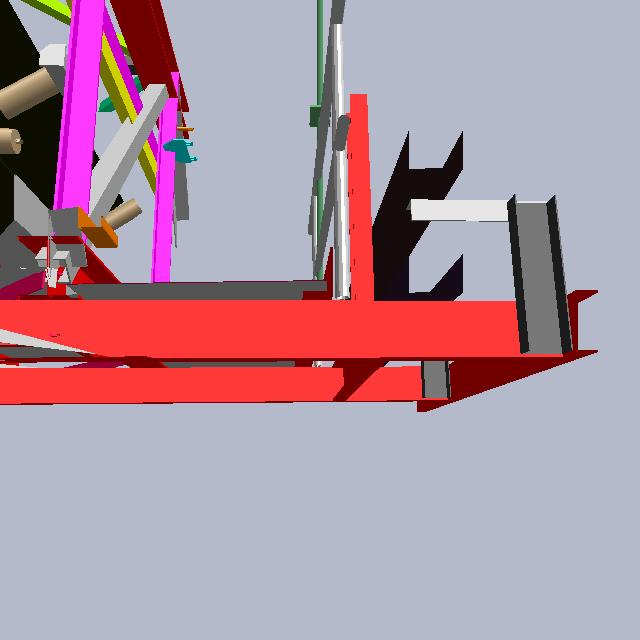Poste: (340, 84, 380, 315), (314, 7, 325, 292)
